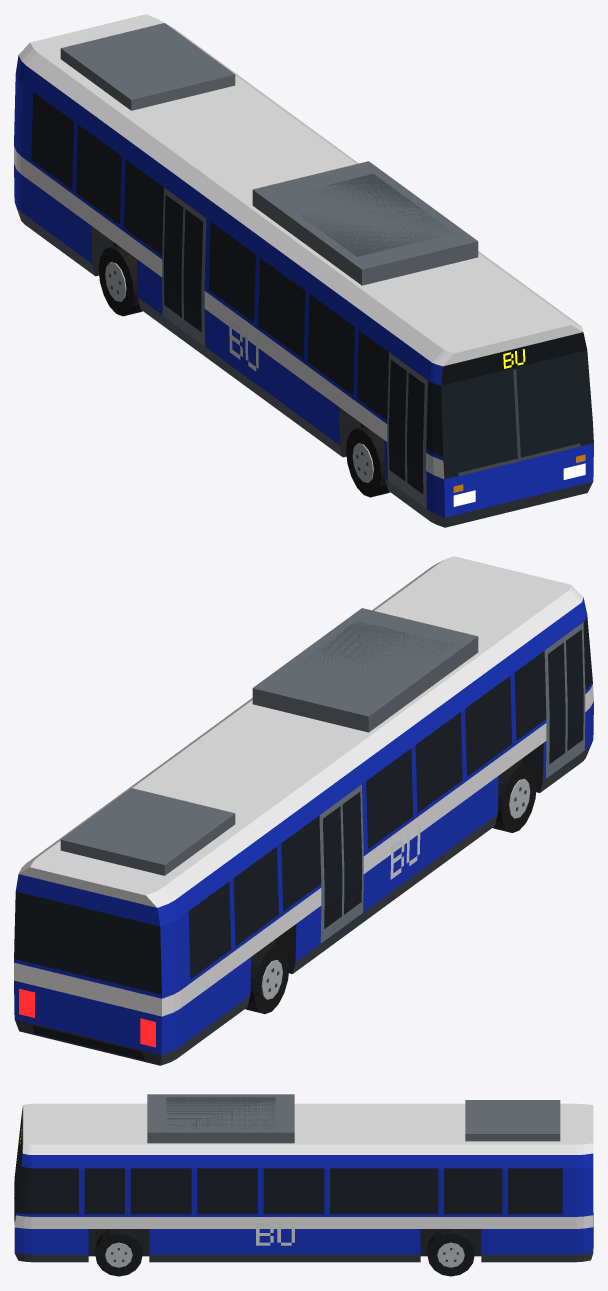
The model's file is bu-shuttle-night.glb.
3 renders of one model, top to bottom at view 1: azimuth 30°, elevation 25°; view 2: azimuth 150°, elevation 25°; view 3: azimuth 270°, elevation 25°, orthographic. The views are drawn at different scales.
Visible parts, largest first — view 1: bu-shuttle-night; view 2: bu-shuttle-night; view 3: bu-shuttle-night.
Boxes of the visible parts, x1=… form: bu-shuttle-night: x1=14, y1=14, x2=593, y2=527; bu-shuttle-night: x1=14, y1=556, x2=593, y2=1065; bu-shuttle-night: x1=14, y1=1094, x2=593, y2=1276.
Bounding box in the file's own units: 2.64 × 3.2 × 12.22.
